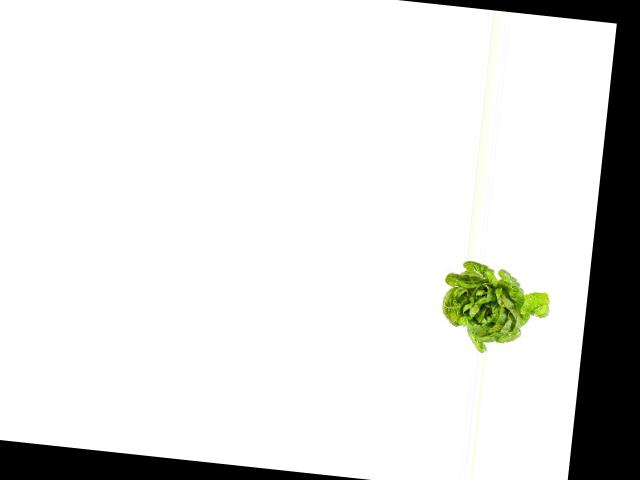lettuce: (436, 261, 556, 359)
